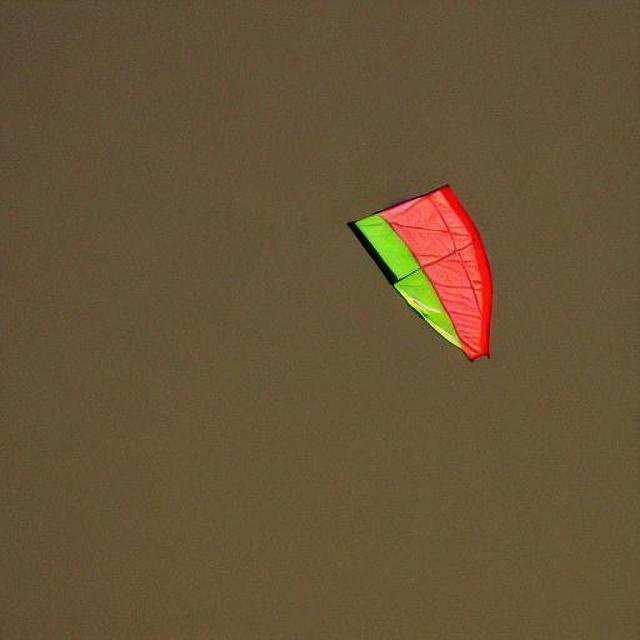floating object: (349, 184, 494, 358)
